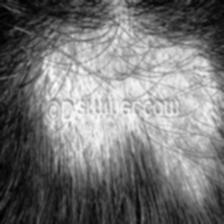Unclassified: (36, 32, 82, 86), (174, 132, 214, 176)
